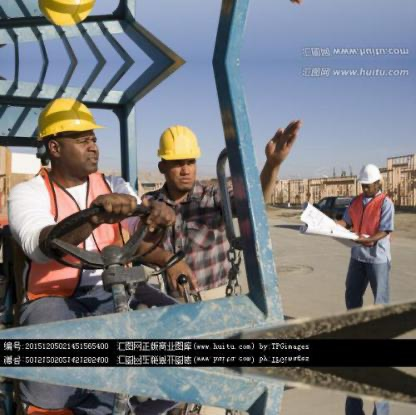Safety Helmet: (33, 92, 110, 179), (155, 122, 204, 194), (351, 157, 386, 200)
